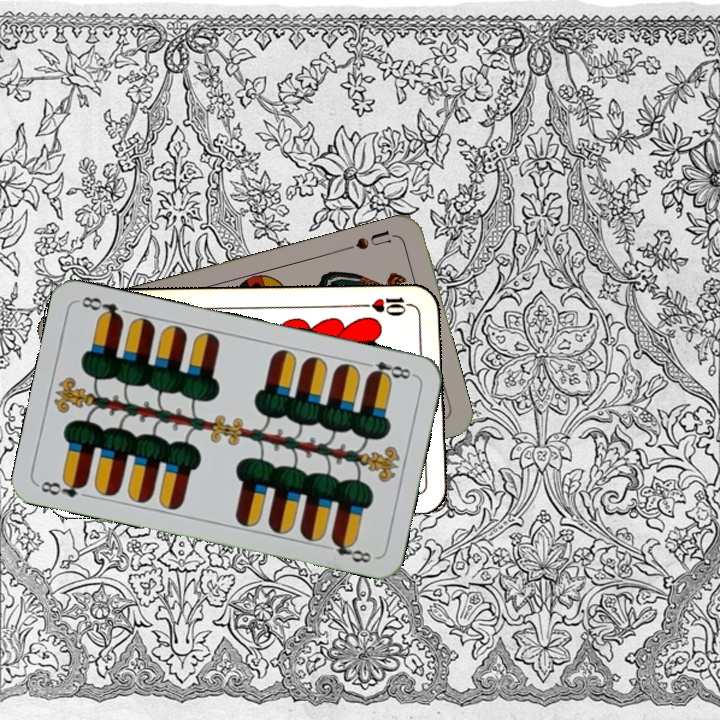E8: (358, 357, 417, 383), (36, 474, 89, 500)
H10: (358, 293, 417, 319)
SU: (340, 226, 399, 254)
